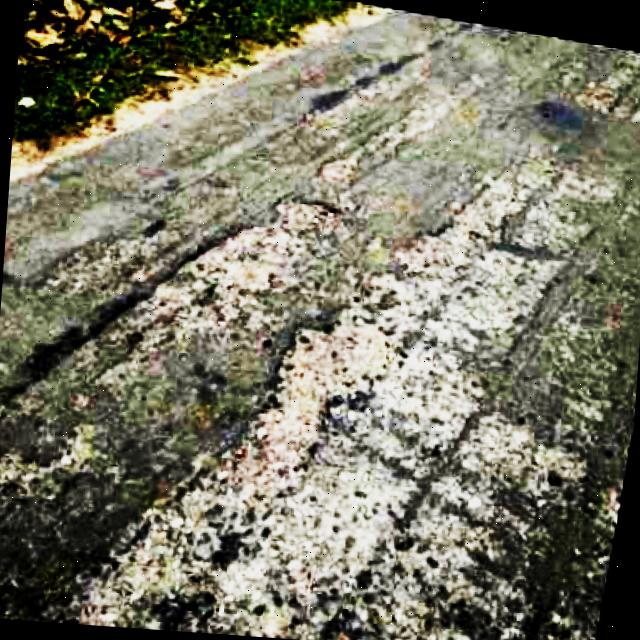pothole: (266, 300, 428, 440), (156, 218, 299, 331)
